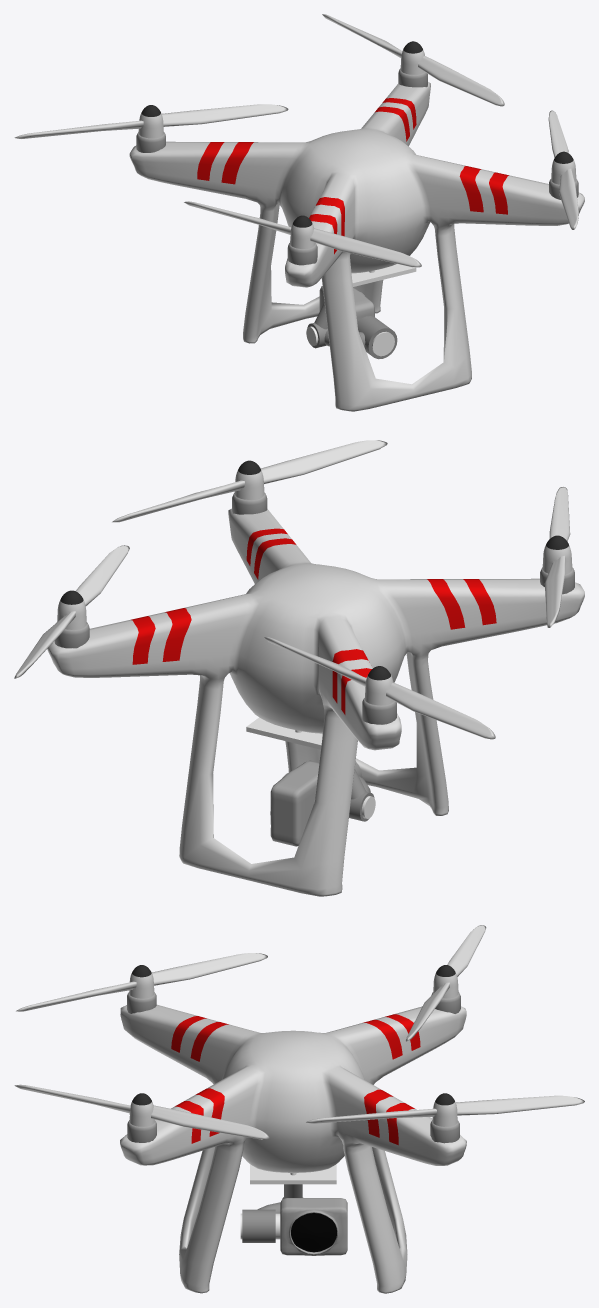
File: drone.glb
3 renders of one model, top to bottom at view 1: azimuth 30°, elevation 25°; view 2: azimuth 150°, elevation 25°; view 3: azimuth 270°, elevation 25°, orthographic. The views are drawn at different scales.
Visible parts, largest first — view 1: Drone, Rotor3, Rotor4, Rotor2, Kameragestell, Rotor1, Camera; view 2: Drone, Rotor1, Rotor3, Rotor2, Camera, Rotor4, Kameragestell; view 3: Drone, Camera, Rotor2, Rotor1, Rotor4, Kameragestell, Rotor3.
Boxes of the visible parts, <box> form: Drone: <box>129,82,584,411</box>; Rotor3: <box>14,104,288,152</box>; Rotor4: <box>184,201,421,267</box>; Rotor2: <box>322,14,504,106</box>; Kameragestell: <box>306,264,416,359</box>; Rotor1: <box>548,110,578,229</box>; Camera: <box>319,286,374,321</box>; Drone: <box>47,508,584,896</box>; Rotor1: <box>112,440,387,522</box>; Rotor3: <box>264,637,495,739</box>; Rotor2: <box>14,545,129,678</box>; Camera: <box>270,760,319,846</box>; Rotor4: <box>540,486,574,627</box>; Kameragestell: <box>246,717,375,821</box>; Drone: <box>120,1004,466,1293</box>; Camera: <box>280,1198,347,1255</box>; Rotor2: <box>305,1093,584,1143</box>; Rotor1: <box>14,1084,269,1142</box>; Rotor4: <box>16,953,267,1013</box>; Kameragestell: <box>240,1164,336,1242</box>; Rotor3: <box>405,925,486,1041</box>.
Bounding box in the file's own units: 17.59 × 8.9 × 19.96.
